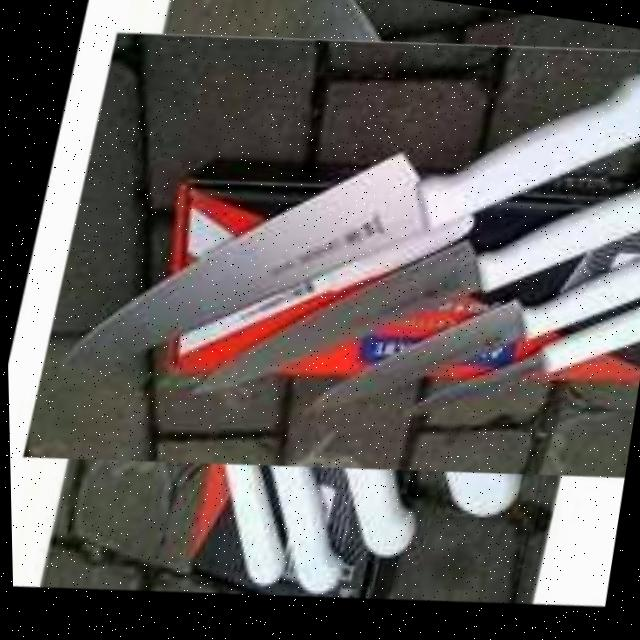knife: (45, 0, 640, 598)
